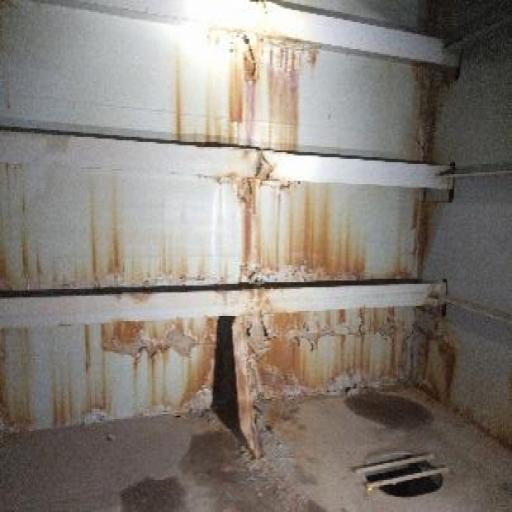Detect-rust-on-metal-surfaces: (3, 188, 479, 508), (204, 38, 324, 156), (404, 63, 461, 268), (172, 48, 189, 146)
